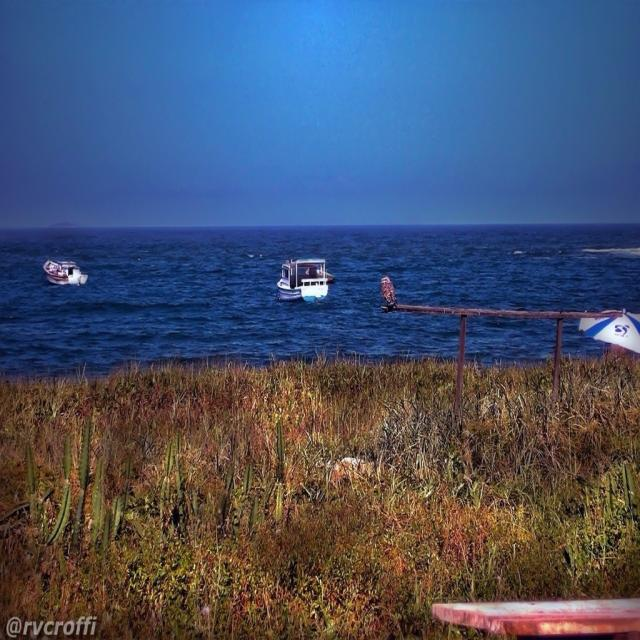Boat: (274, 243, 340, 299), (42, 256, 90, 286)
